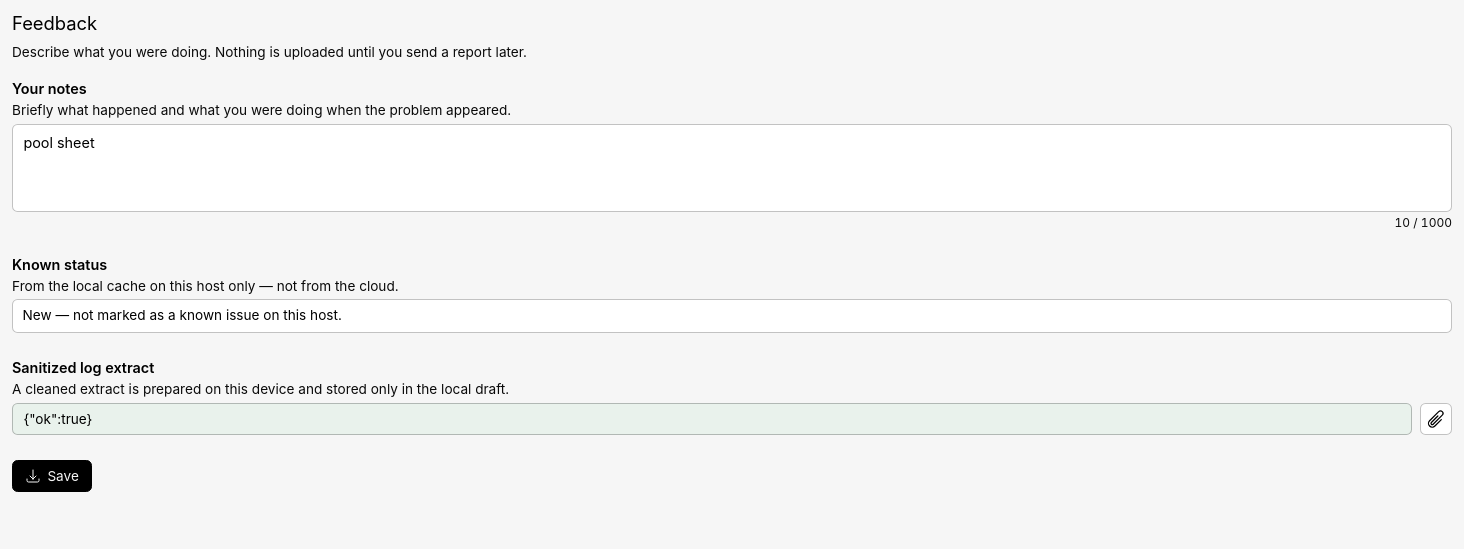
Test: FeedbackForm › prepares and saves a local draft without cloud upload
Click the button with test id "feedback-form-prepare" at (52, 476), box [12,460,92,492]
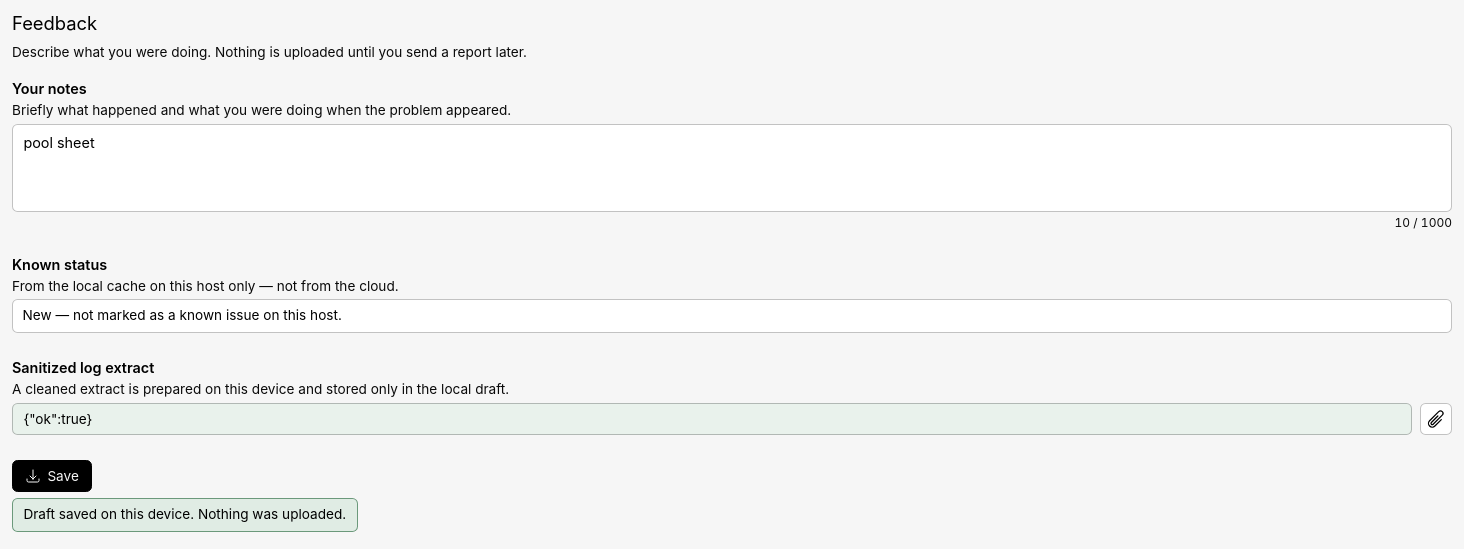
Expected: the message with test id "feedback-form-prepare-success" reads "Draft saved on this device. Nothing was uploaded.", [23,506,346,522]
